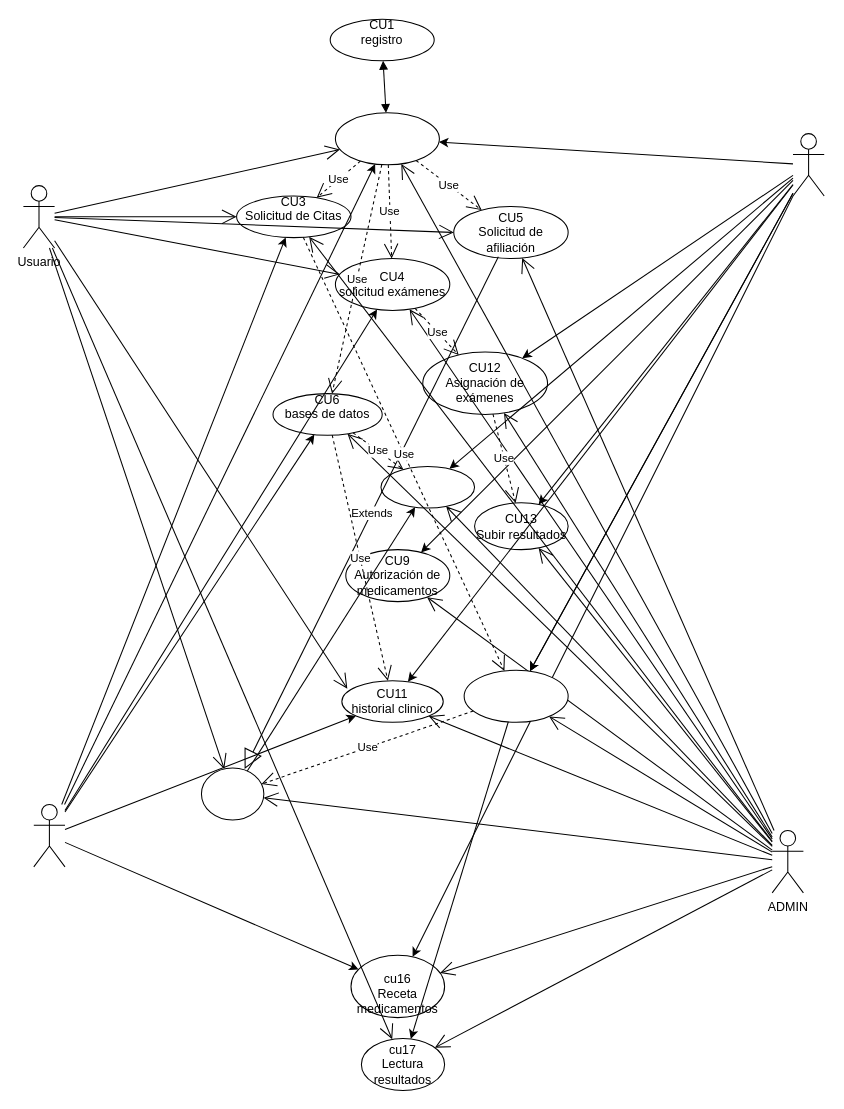
This 844x1109 diagram has some shape labels left out. Here are the shapes that lost their labels. From the top down, the centre of each, then its label:
(386,138): CU2 Inicio de sesión
(808,164): Doctor
(427,486): CU7 agenda medica
(515,695): CU14 asignacion cita
(232,793): CU10 Copago
(49,835): Enfermero
